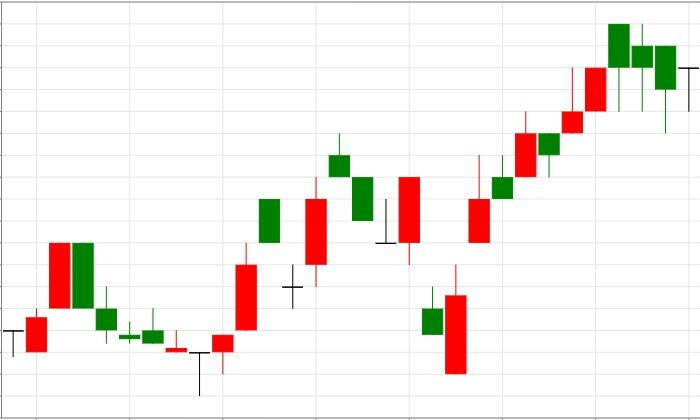bullish_engulfing_rise: (328, 133, 467, 374)
shooting_star_fall: (445, 66, 584, 374)
